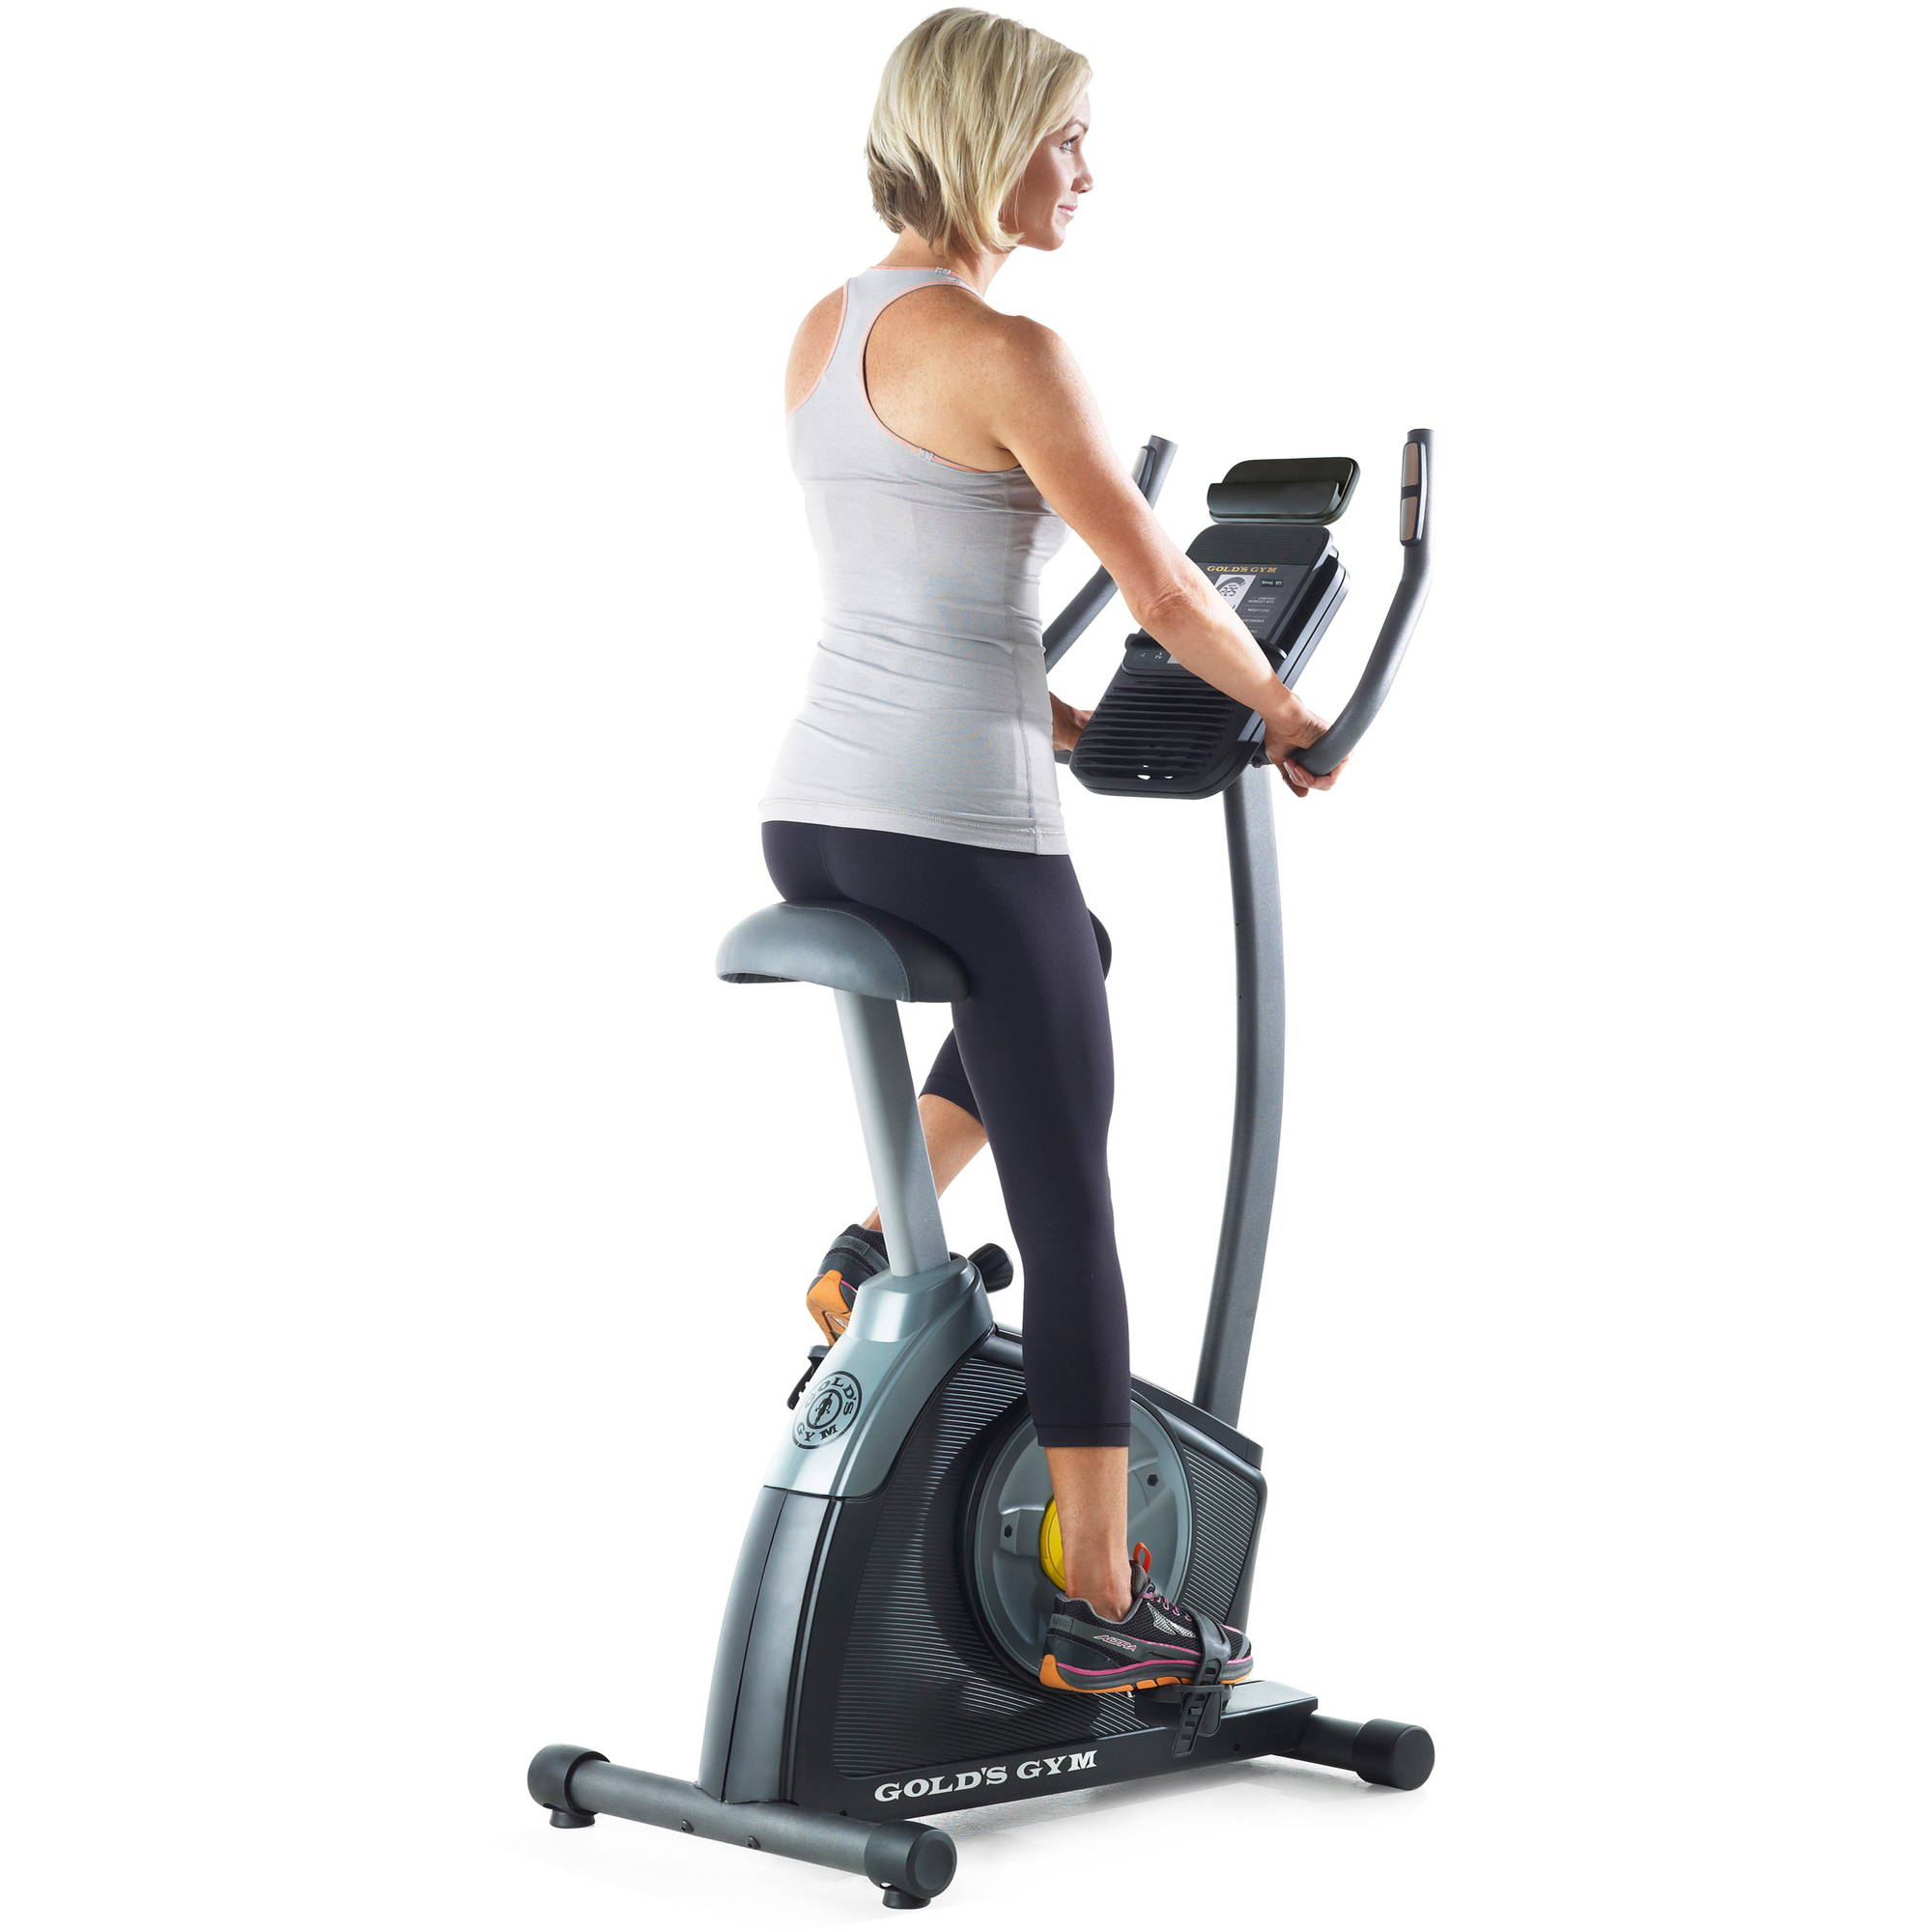gym_bike: (548, 402, 1447, 1932)
